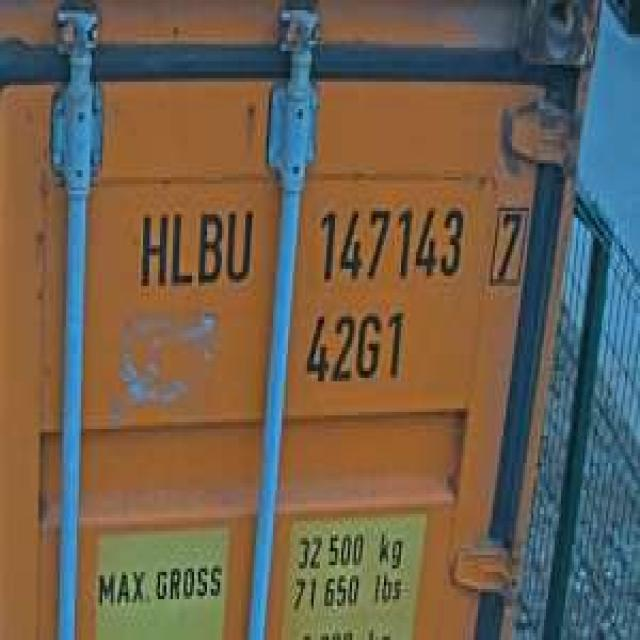dv: (484, 194, 531, 296)
owner: (132, 194, 256, 296)
serial: (310, 191, 468, 289)
size: (301, 303, 405, 388)
